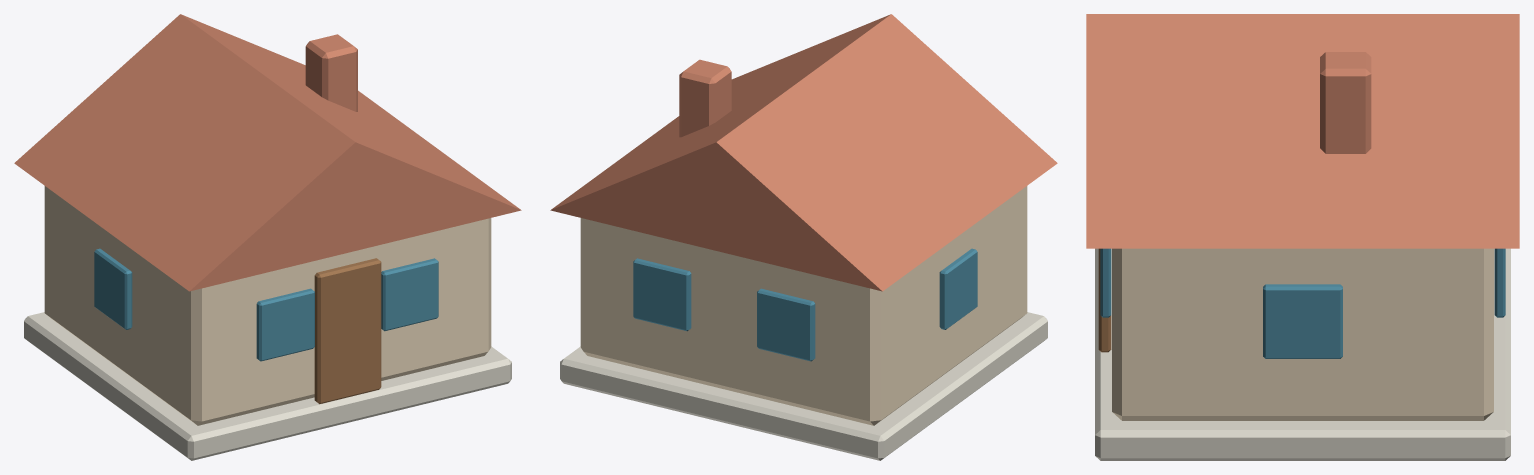
The model's file is RES_LOW_1x1_001.glb.
The picture shows the model from 3 angles, left to right: view 1: azimuth 30°, elevation 25°; view 2: azimuth 150°, elevation 25°; view 3: azimuth 270°, elevation 25°; orthographic projection. The views are drawn at different scales.
Parts seen in each view (by area): view 1: RES_LOW_1x1_001_Visual; view 2: RES_LOW_1x1_001_Visual; view 3: RES_LOW_1x1_001_Visual.
Boxes of the visible parts, x1,y1,x2,y2 form: RES_LOW_1x1_001_Visual: [14, 14, 521, 460]; RES_LOW_1x1_001_Visual: [550, 14, 1057, 460]; RES_LOW_1x1_001_Visual: [1086, 14, 1519, 460].
Size of what is drawn, in the model's own units: 1.66 by 1.37 by 1.52.
